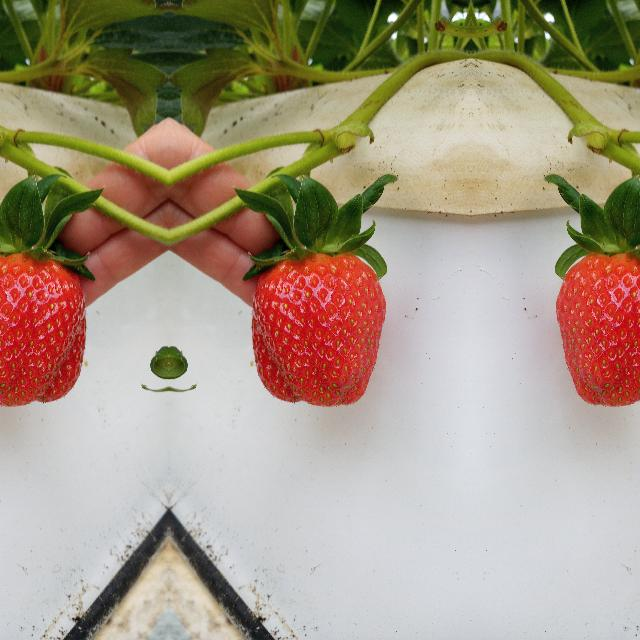Health_100: (250, 253, 386, 407), (0, 253, 85, 407), (555, 253, 640, 407)
